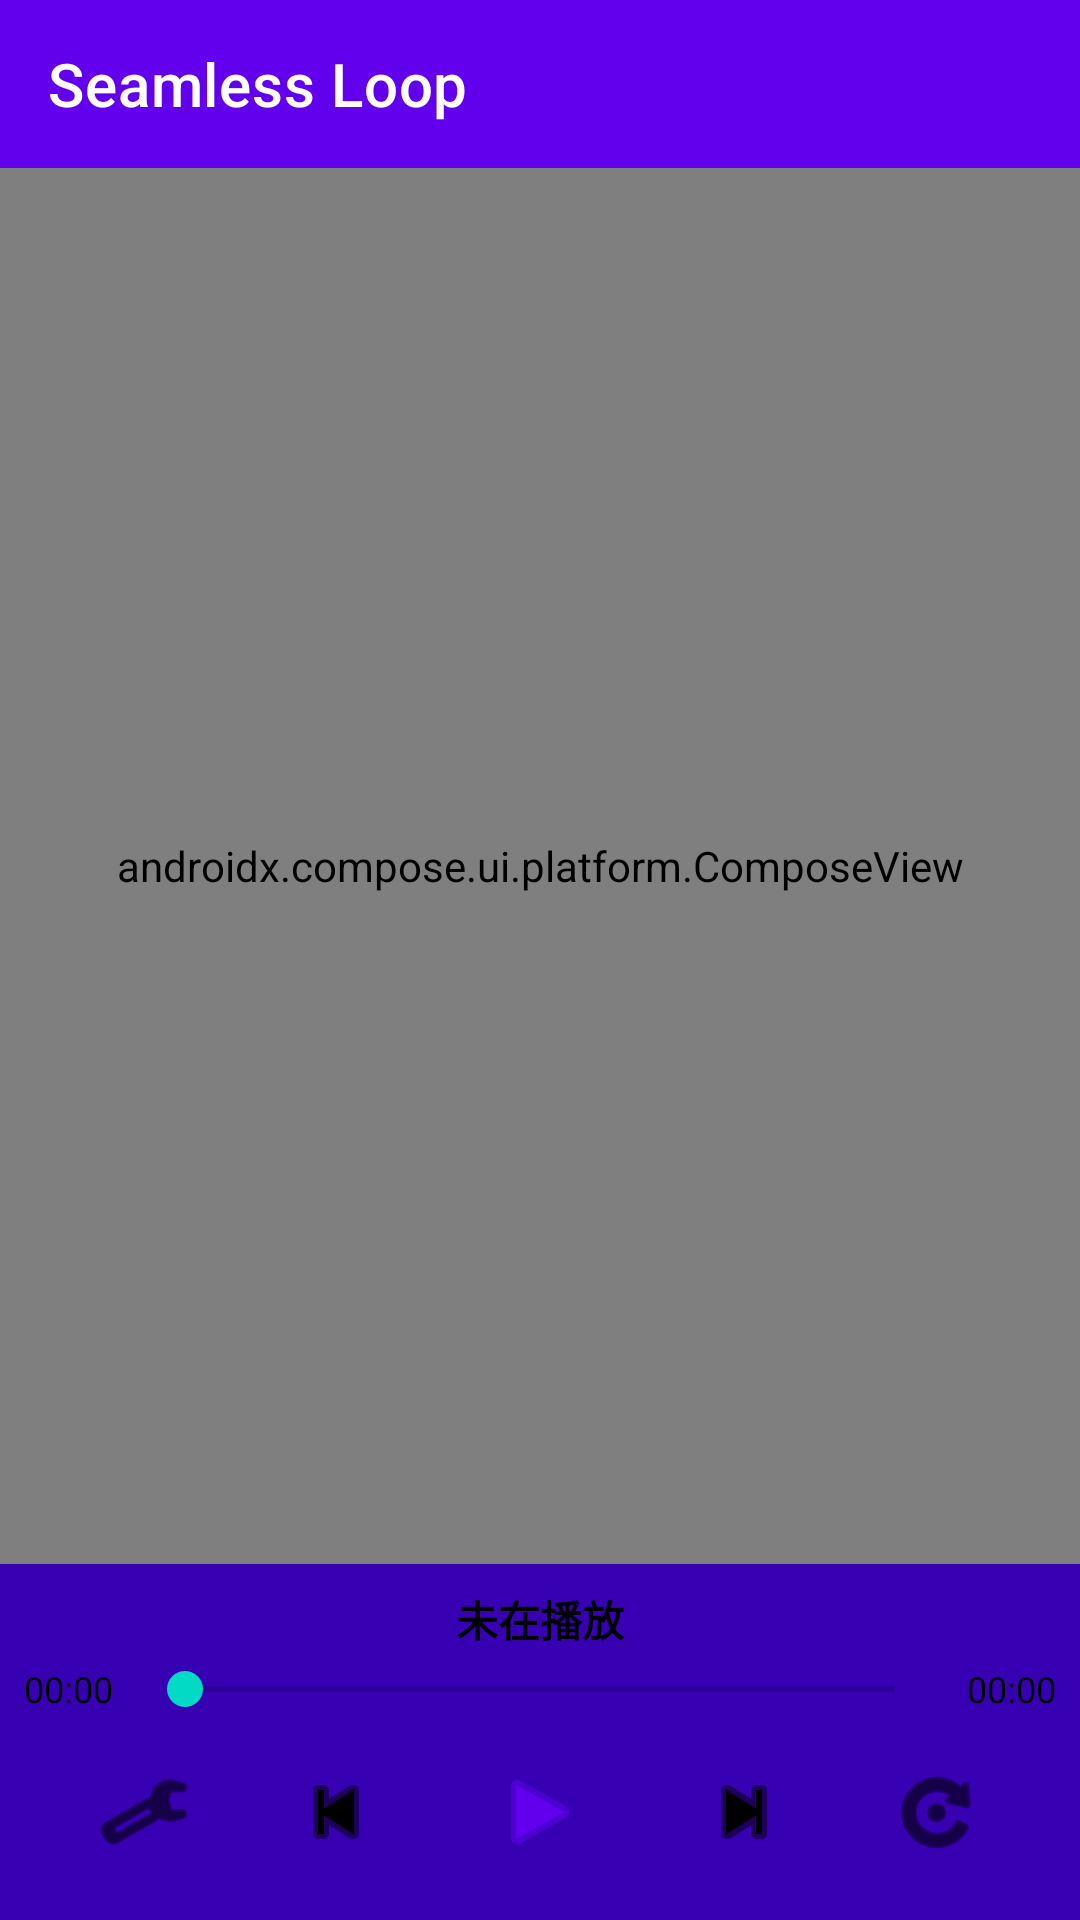

Named icons in this screenshot (1080px x 1920px) and their centers, (x=x, y=y):
上一首: (x=336, y=1812)
下一首: (x=744, y=1812)
播放/暂停: (x=540, y=1812)
播放模式: (x=936, y=1812)
